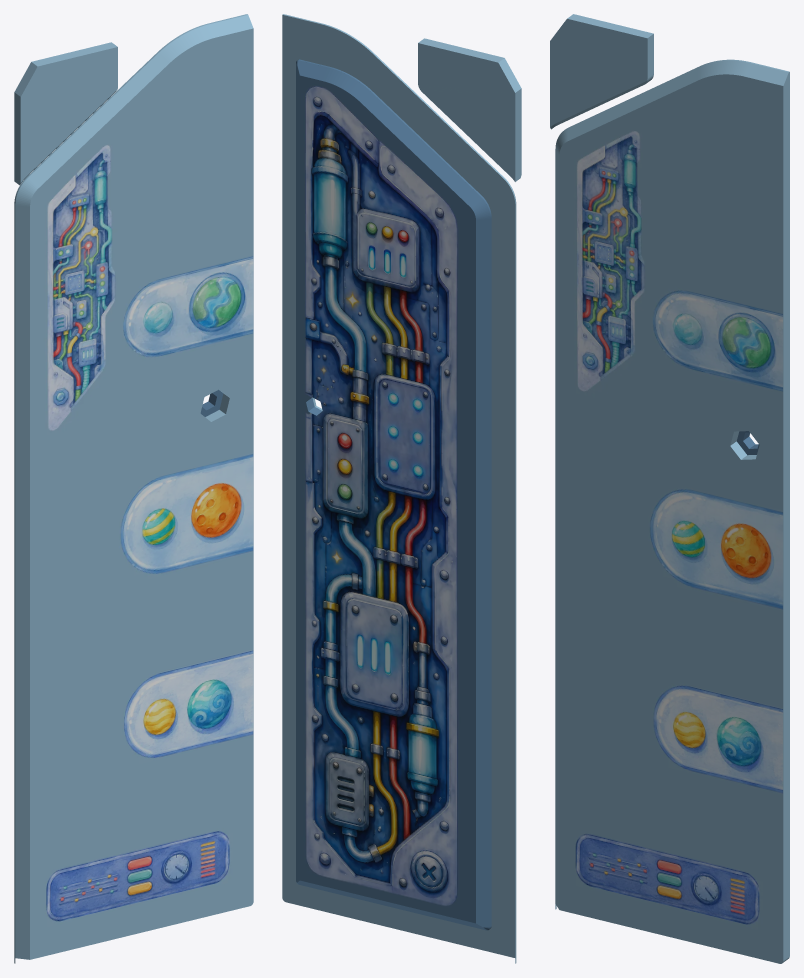
The model's file is door-left-leaf.glb.
3 renders of one model, left to right at view 1: azimuth 30°, elevation 25°; view 2: azimuth 150°, elevation 25°; view 3: azimuth 330°, elevation 25°, orthographic.
Visible parts, largest first — view 1: door-left-leaf; view 2: door-left-leaf; view 3: door-left-leaf.
Part boxes in pixels (x1,y1,x2,y2): door-left-leaf: [14, 14, 253, 963]; door-left-leaf: [282, 14, 521, 963]; door-left-leaf: [550, 14, 789, 963].
Size of the model in its own units: 251 by 925 by 24.
Materials: 4 (2 with a texture image).
